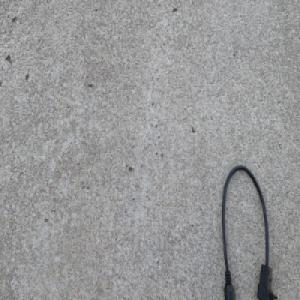Wire: (218, 161, 276, 300)
